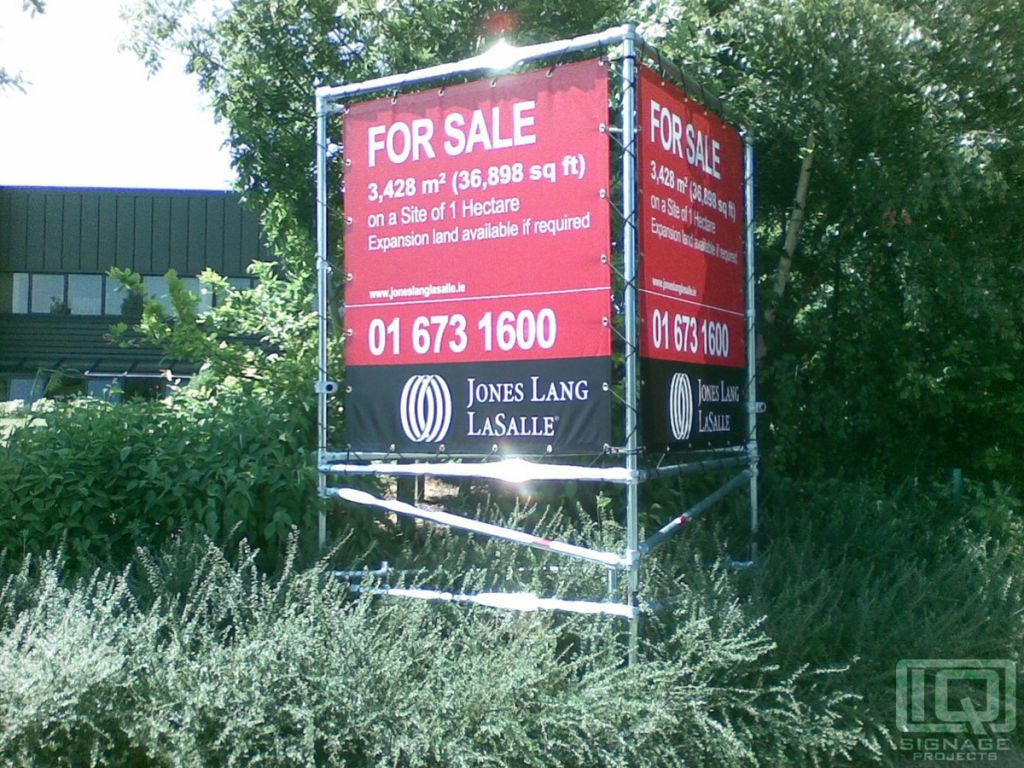property sign: (327, 48, 614, 449), (632, 49, 765, 467)
